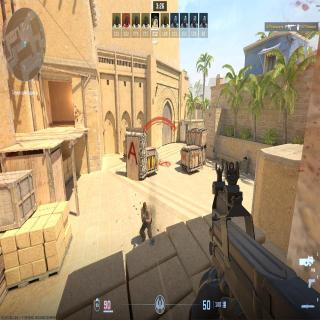T-Body: (139, 201, 153, 241)
T-Head: (142, 202, 149, 212)
